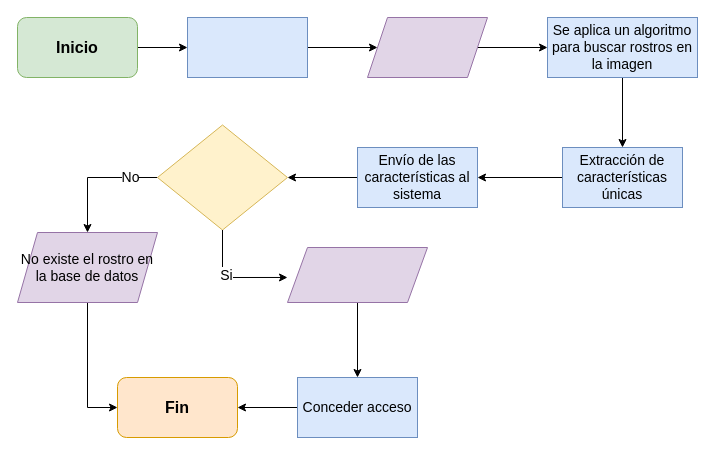
This 715x455 diagram has some shape labels left out. Here are the shapes that lost their labels. From the top down, the centre of each, then its label:
At (x=247, y=47): "Una persona se acerca al sensor".
At (x=427, y=47): "Se toma una fotografía".
At (x=222, y=177): "¿El rostro se encuentra en la base de datos?".
At (x=357, y=274): "Se proporciona la identidad de la persona".
